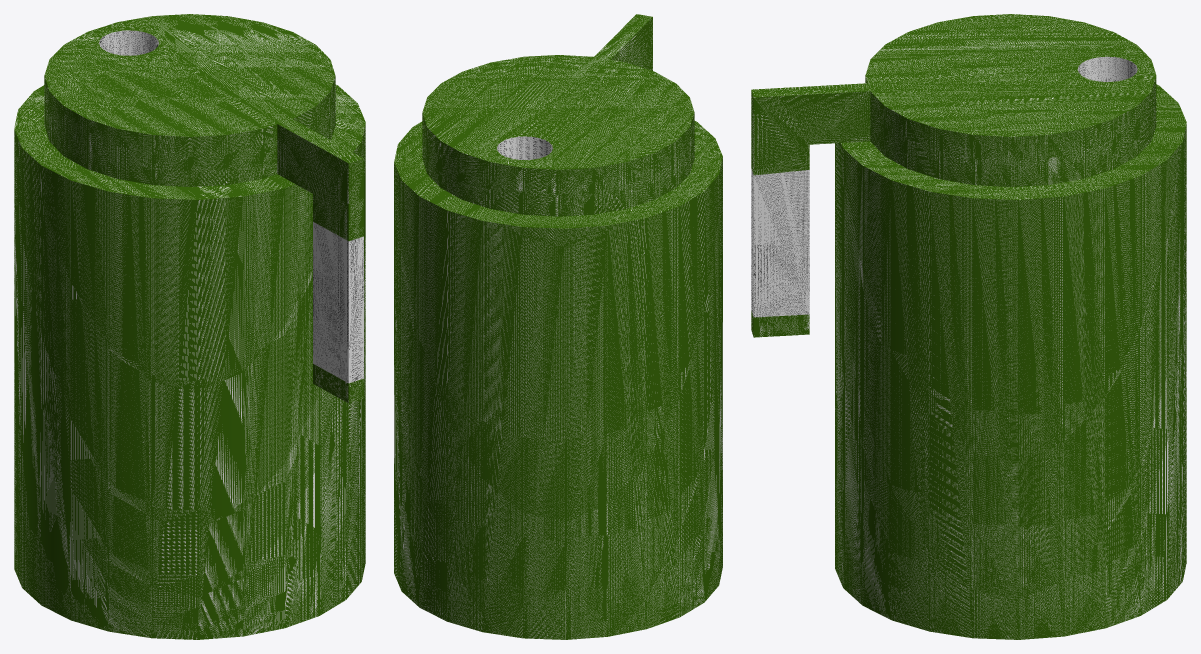
The picture shows the model from 3 angles, left to right: view 1: azimuth 30°, elevation 25°; view 2: azimuth 150°, elevation 25°; view 3: azimuth 270°, elevation 25°; orthographic projection. The views are drawn at different scales.
Parts seen in each view (by area): view 1: mesh1_mesh1-geometry; view 2: mesh1_mesh1-geometry; view 3: mesh1_mesh1-geometry.
Boxes of the visible parts, left/top/right/bottom form: mesh1_mesh1-geometry: left=14, top=14, right=365, bottom=639; mesh1_mesh1-geometry: left=394, top=14, right=722, bottom=639; mesh1_mesh1-geometry: left=751, top=14, right=1186, bottom=639.
Size of the model in its own units: 0.4518 by 0.6948 by 0.5596.
